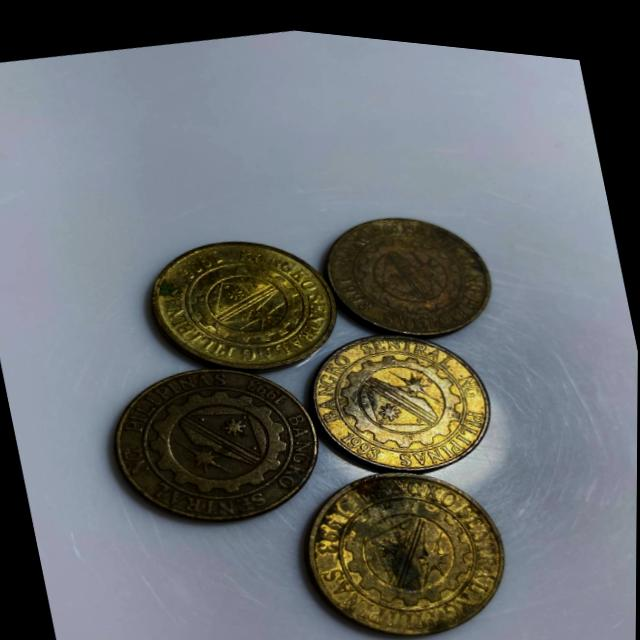25Cent_Old_Back: (288, 434, 521, 640), (107, 343, 327, 537), (302, 301, 503, 484), (145, 216, 343, 384), (321, 185, 493, 347)
